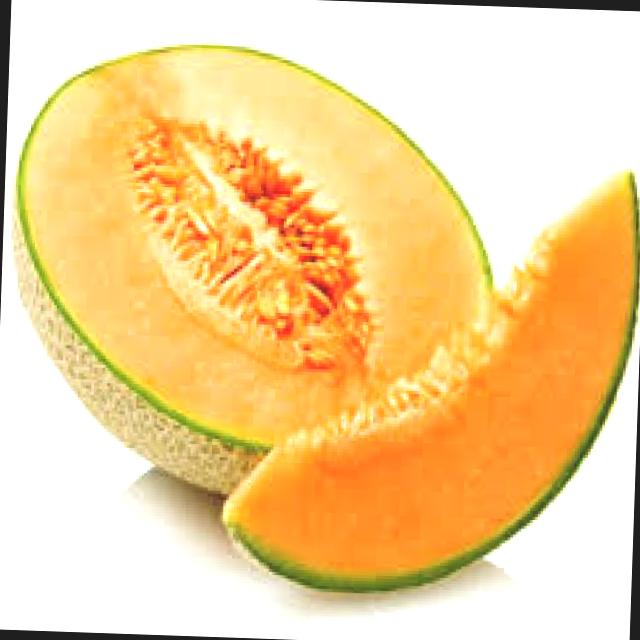cantaloupe: (2, 36, 501, 503), (217, 154, 640, 606)
